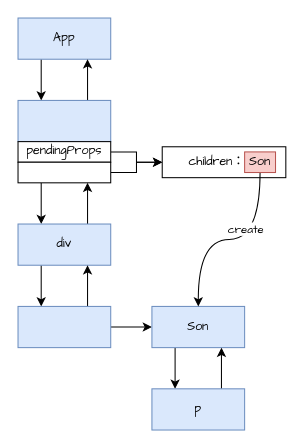
Some shapes in this 304 by 448 pixel diagram are drawn without their labels. Each missing label, with the centre of its shape:
"memoizedProps" belongs at point (64, 172).
"Parent" belongs at point (64, 120).
"span" belongs at point (64, 326).
